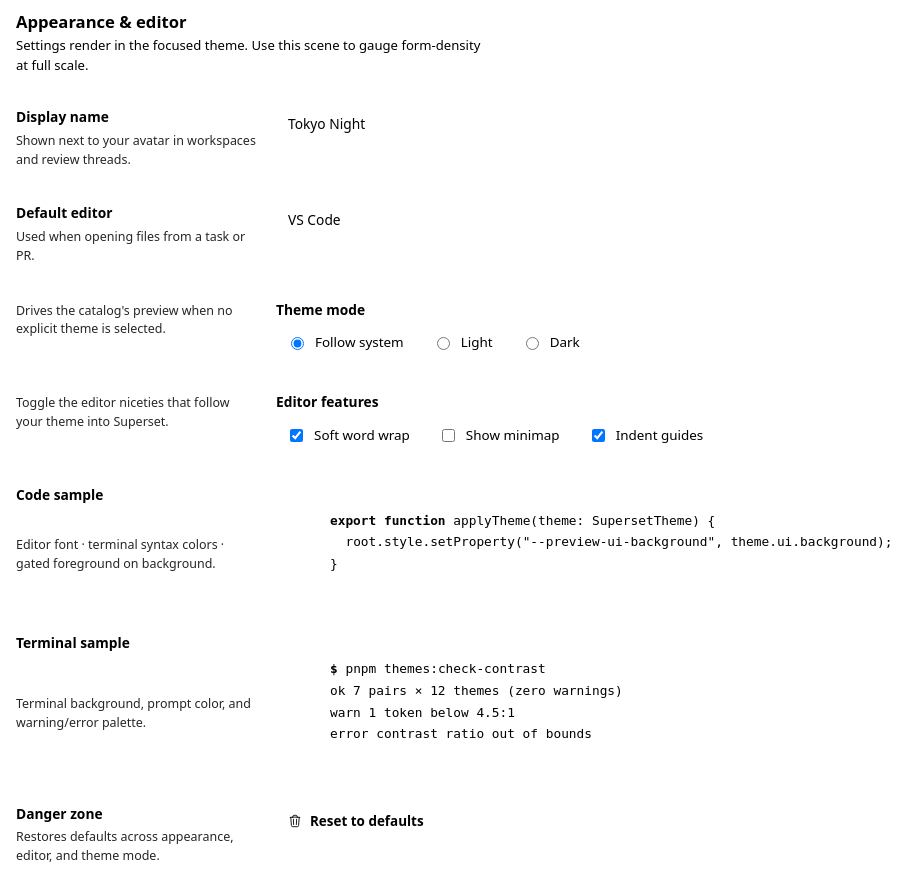
Test: SettingsScene › asks for confirmation before applying the destructive reset
The image size is (907, 879).
Click the button "Reset to defaults" at {"x": 356, "y": 821}, box left=276, top=804, right=436, bottom=838
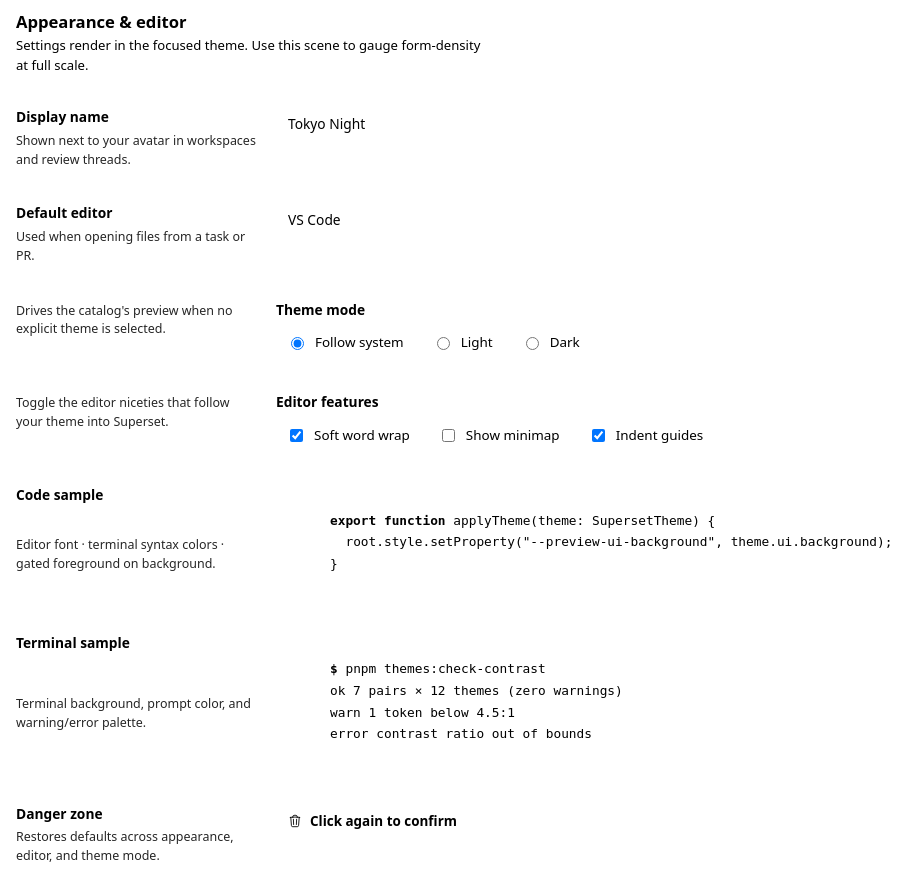
Expected: the button "Click again to confirm" is shown
Note: Second click commits and announces completion.
Click the button "Click again to confirm" at {"x": 372, "y": 821}, box left=276, top=804, right=469, bottom=838
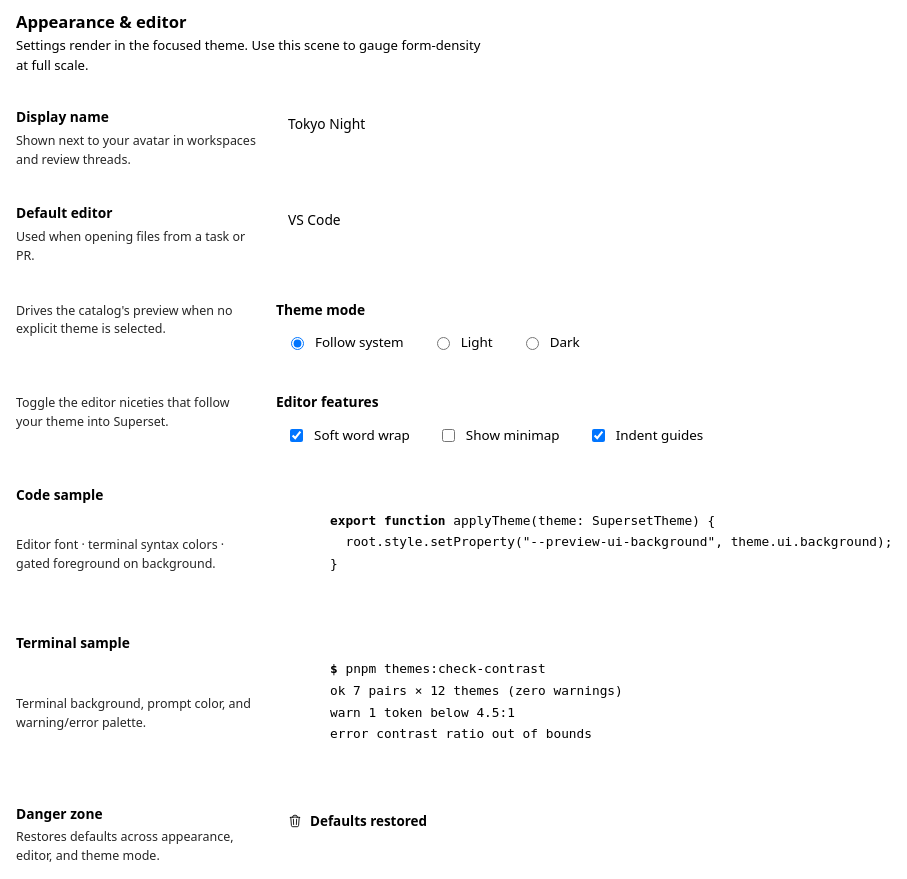
Expected: the button "Defaults restored" is shown, left=276, top=804, right=439, bottom=838
